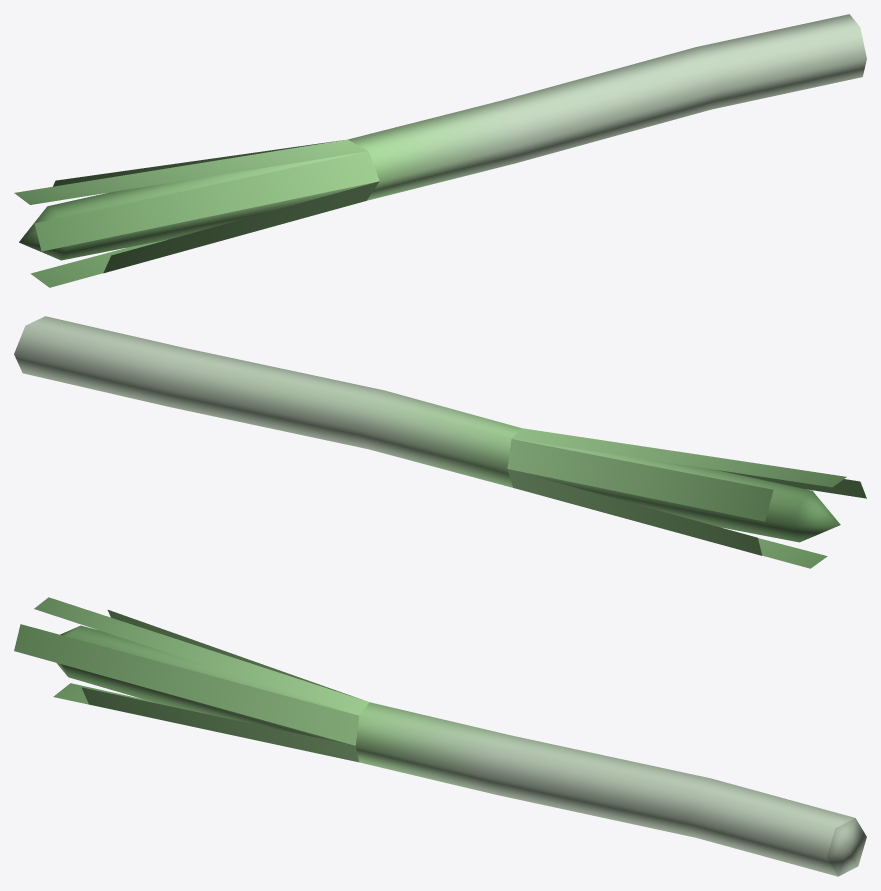
The model's file is consumables-vegetables-leek_v2.glb.
The picture shows the model from 3 angles, top to bottom: view 1: azimuth 30°, elevation 25°; view 2: azimuth 150°, elevation 25°; view 3: azimuth 330°, elevation 25°; orthographic projection. The views are drawn at different scales.
Parts seen in each view (by area): view 1: Leek_v2; view 2: Leek_v2; view 3: Leek_v2.
Part boxes in pixels (box(x1,y1,x2,y2)): Leek_v2: box(14, 14, 866, 287); Leek_v2: box(14, 316, 866, 568); Leek_v2: box(14, 597, 866, 876).
Bounding box in the file's own units: 0.3357 × 0.0334 × 0.035.
